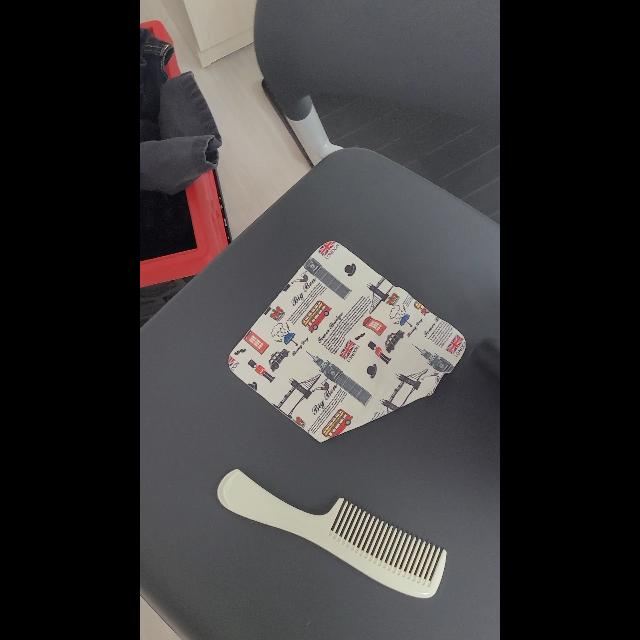COMB: (216, 468, 450, 600)
Glasses cleaning cloth: (228, 241, 467, 443)
